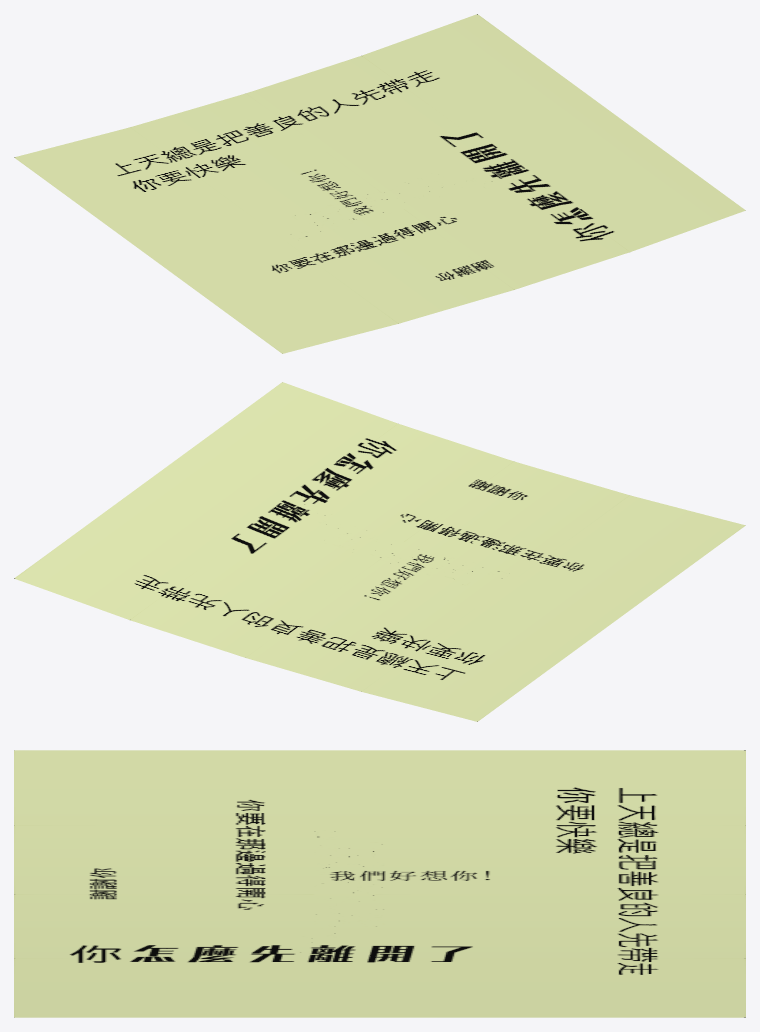
File: 便條紙第5個內容.fbx
3 renders of one model, top to bottom at view 1: azimuth 30°, elevation 25°; view 2: azimuth 150°, elevation 25°; view 3: azimuth 270°, elevation 25°, orthographic. The views are drawn at different scales.
Visible parts, largest first — view 1: 便條紙內容5; view 2: 便條紙內容5; view 3: 便條紙內容5.
Part boxes in pixels (x1=…): 便條紙內容5: x1=14, y1=14, x2=745, y2=353; 便條紙內容5: x1=14, y1=382, x2=745, y2=721; 便條紙內容5: x1=14, y1=750, x2=745, y2=1017.
Size of the model in its own units: 2.94 by 0.1839 by 2.95.
Materials: 1 (1 with a texture image).
